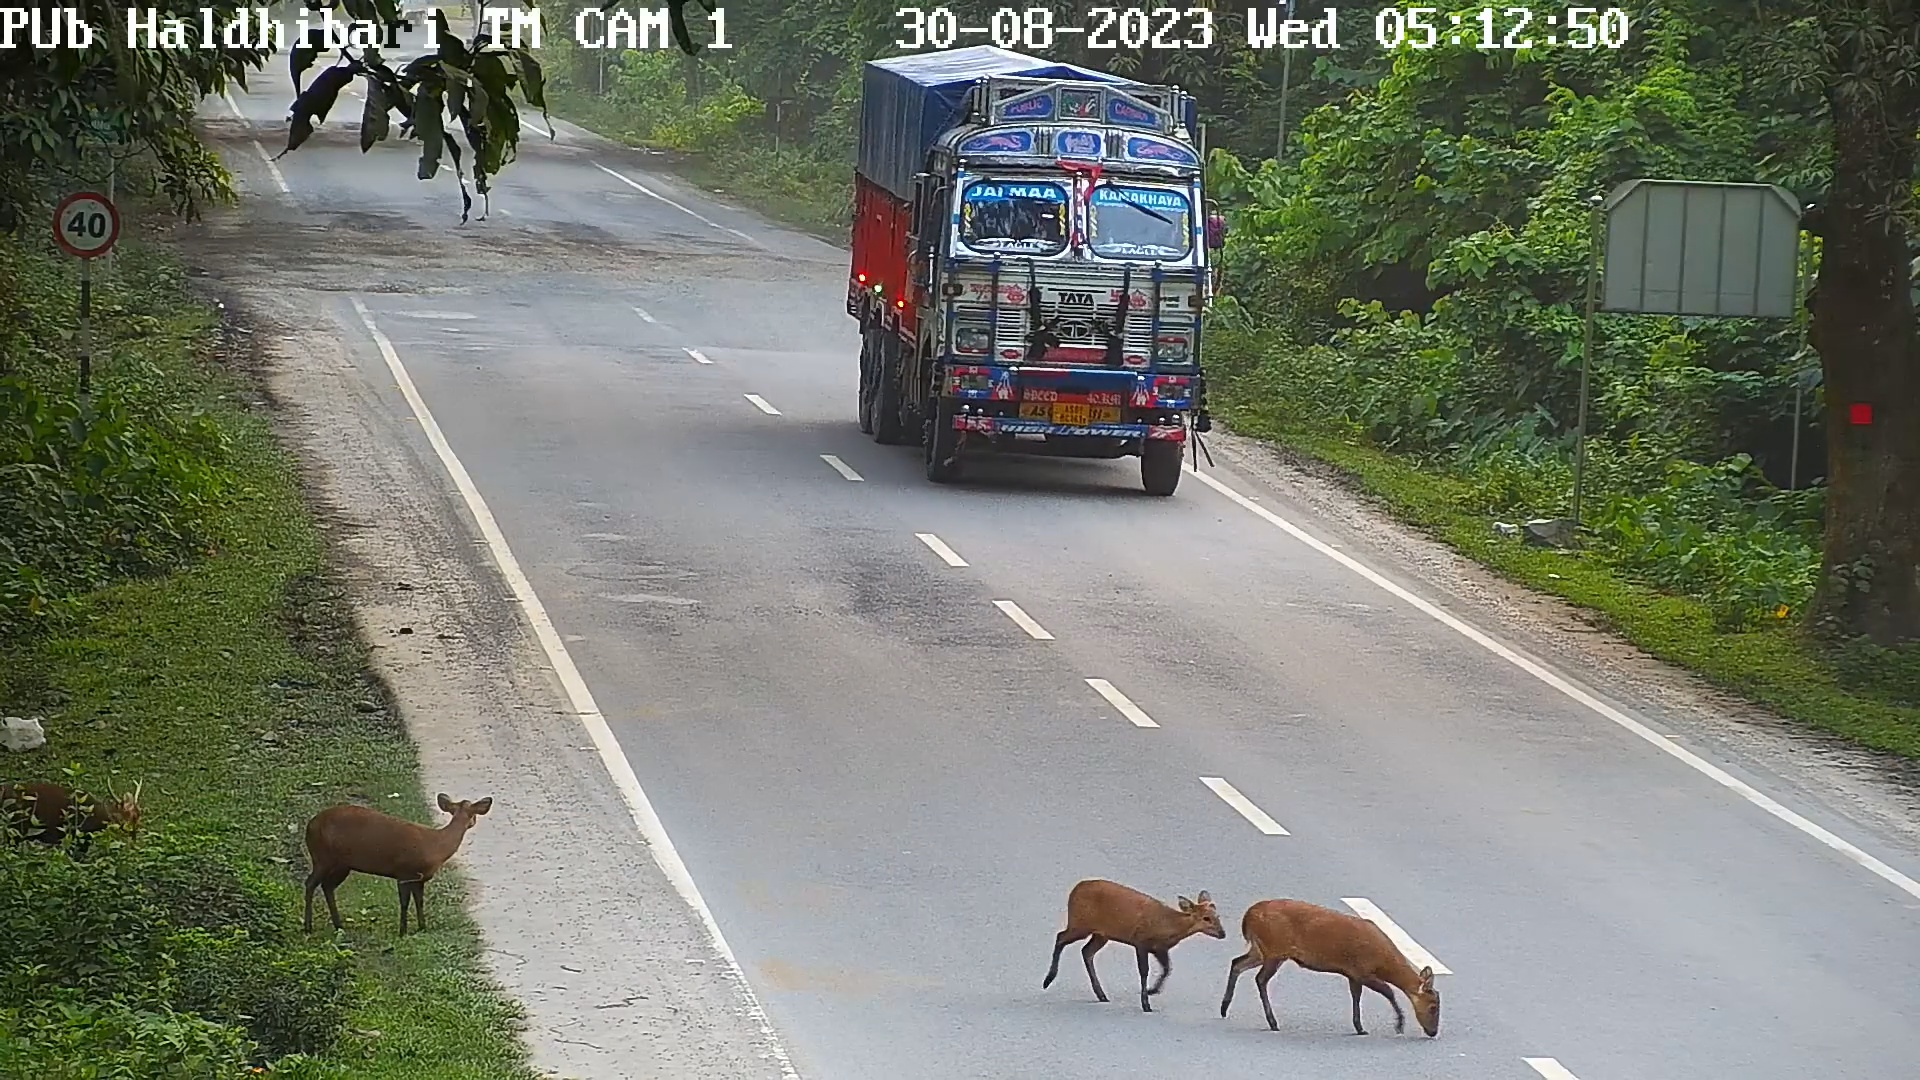deers: (1230, 852, 1458, 1047), (261, 771, 498, 952), (1046, 852, 1230, 1013), (4, 738, 137, 886)
